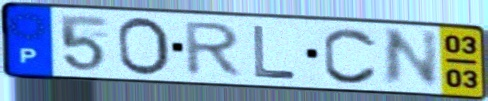5: (57, 14, 111, 73)
C: (321, 26, 381, 87)
L: (250, 23, 299, 82)
N: (380, 27, 442, 89)
O: (115, 15, 174, 78)
R: (182, 20, 246, 78)
